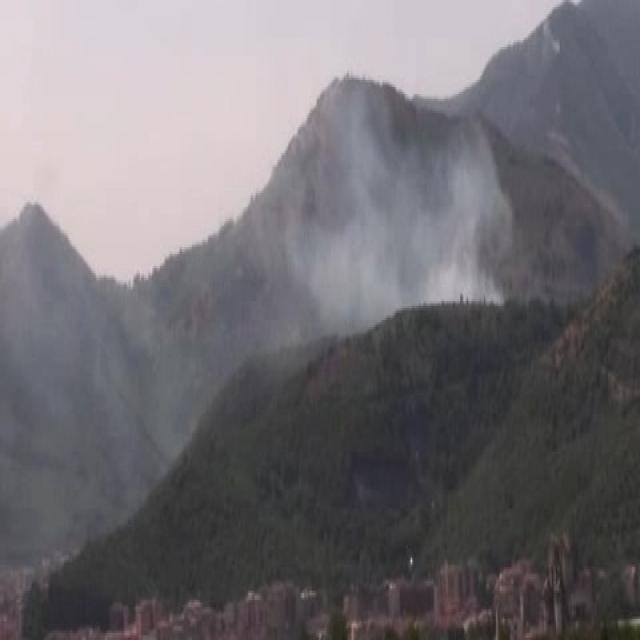smoke: (287, 127, 497, 318)
